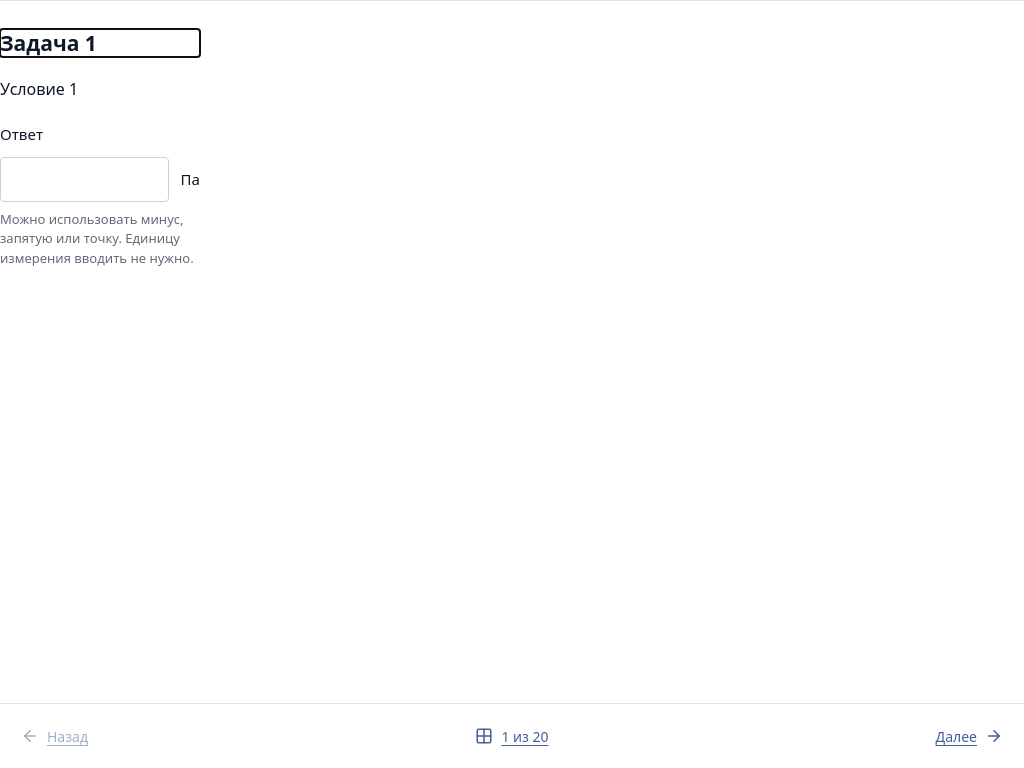
Test case: uses one compact task map on mobile, restores focus and keeps typed answers across navigation
Expected: the number of buttons "Далее" is 1, [927, 712, 1012, 760]
Type "-12" into the field at (84, 180), box [0, 157, 169, 202]
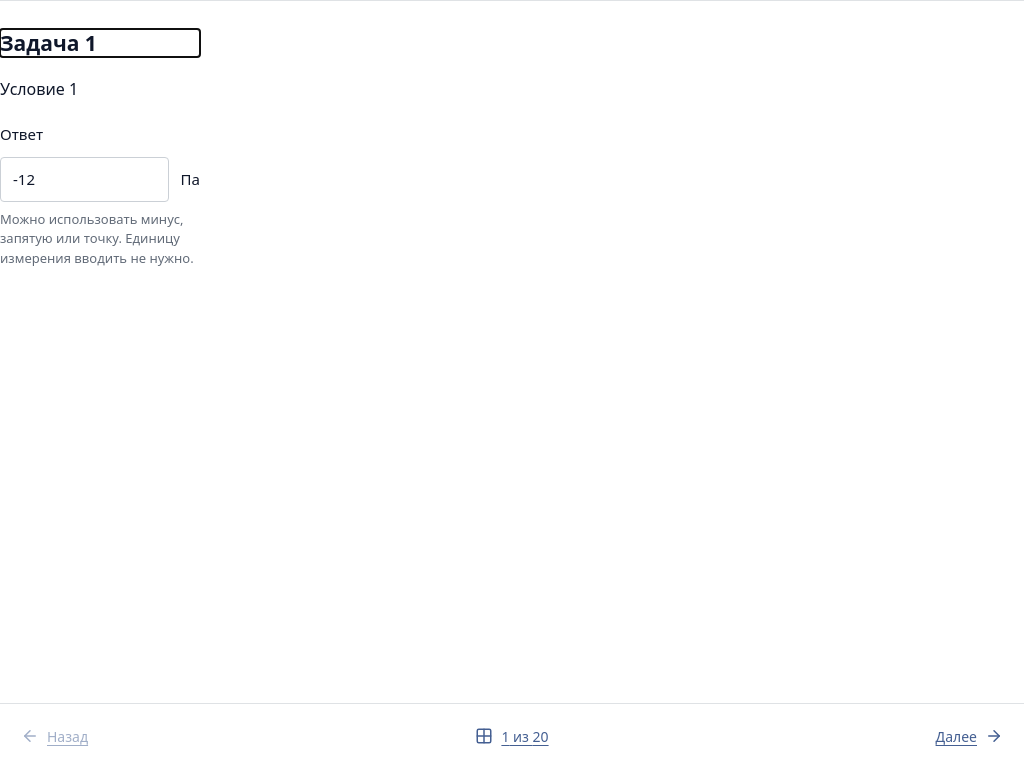
Click the button with aria-label "Задания · 1 из 20" at (512, 736), box [466, 712, 558, 760]
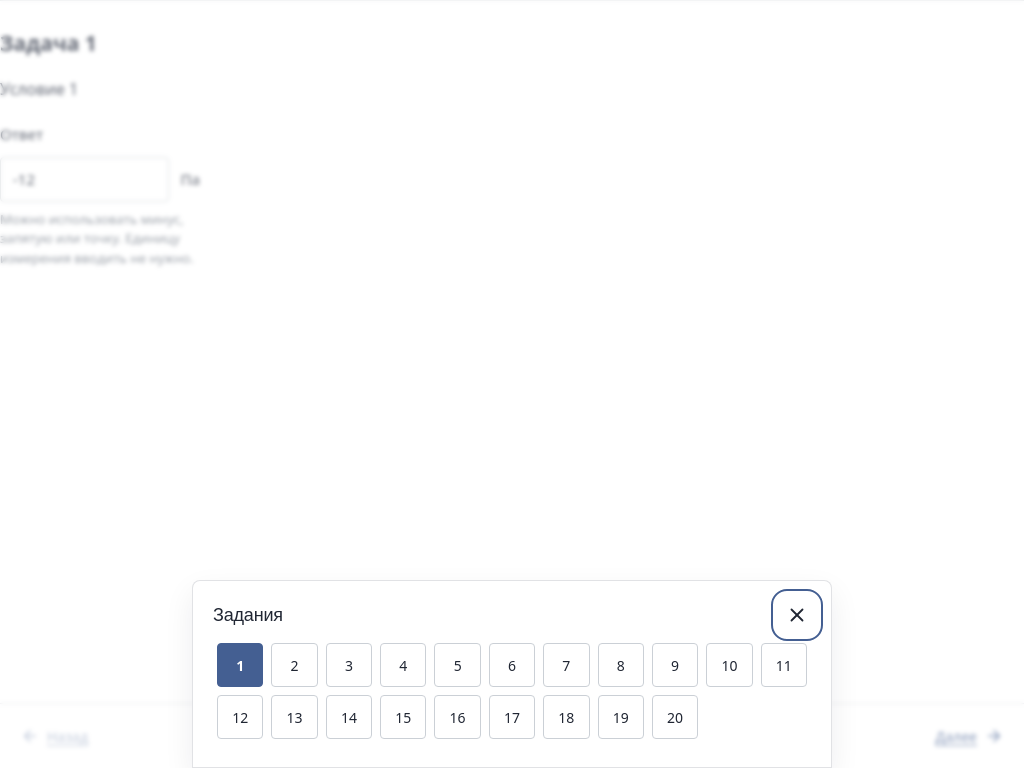
Result: the number of buttons "1" is 20
Click the button named "Задание 20: без ответа" at (675, 717), box [652, 695, 698, 739]
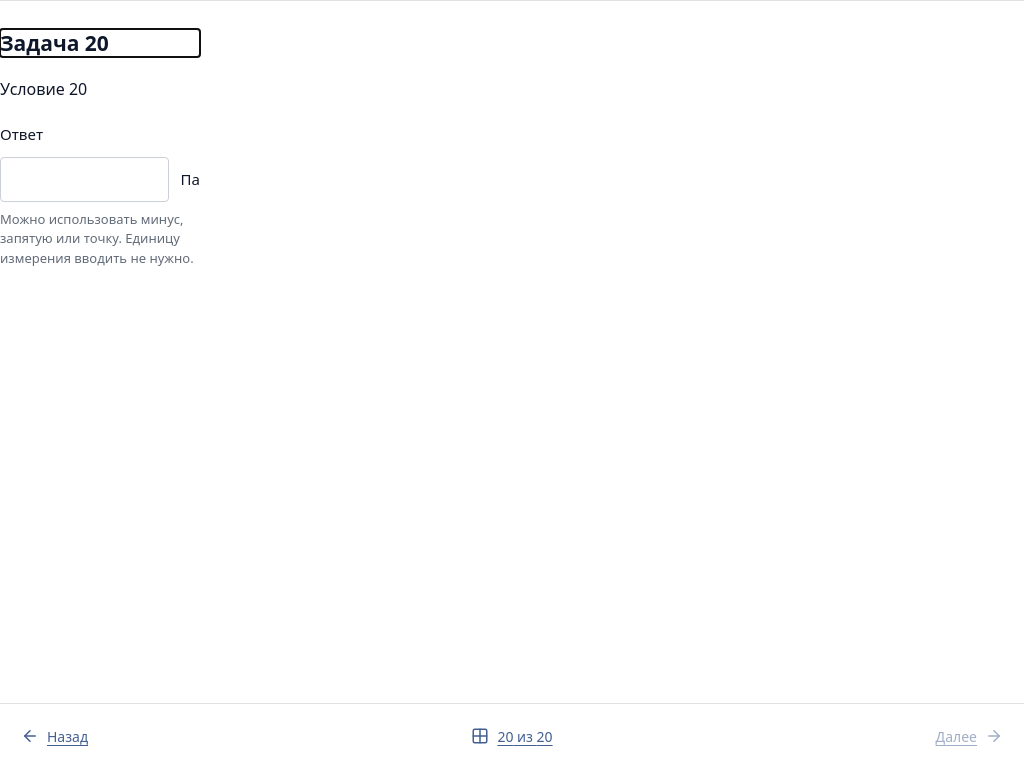
Result: the dialog is gone
Result: the button "Далее" is disabled at [927, 712, 1012, 760]
Click the button with aria-label "Задания · 20 из 20" at (512, 736), box [462, 712, 562, 760]
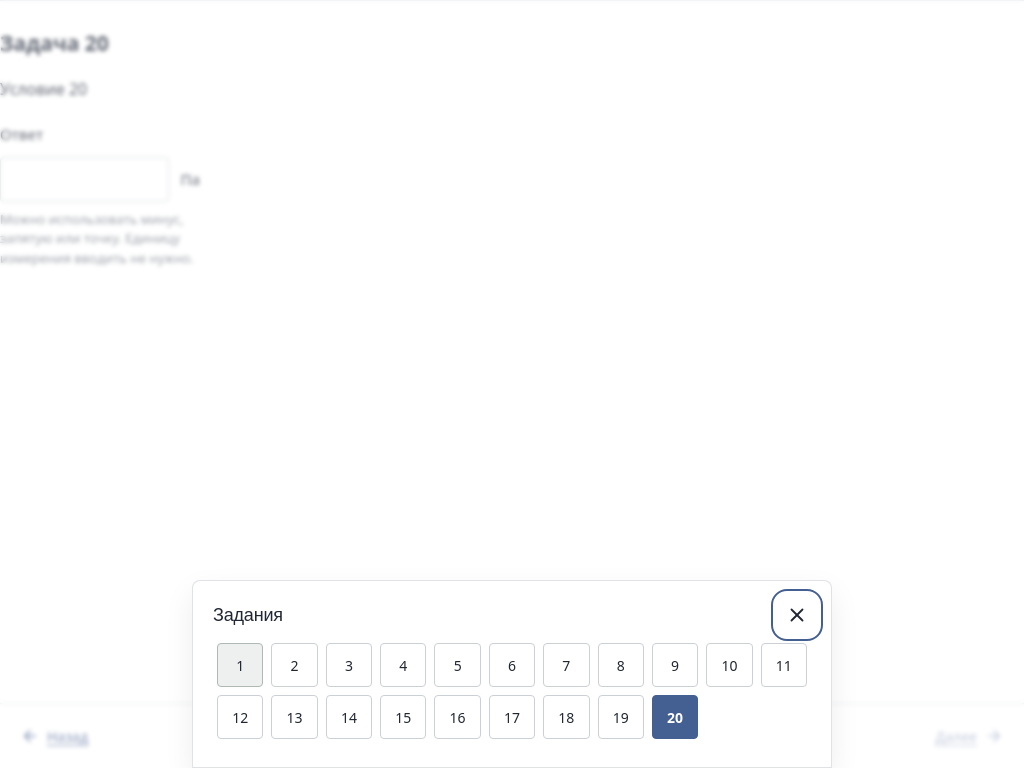
Click the button named "Задание 1: есть ответ" at (240, 665), box [217, 643, 263, 687]
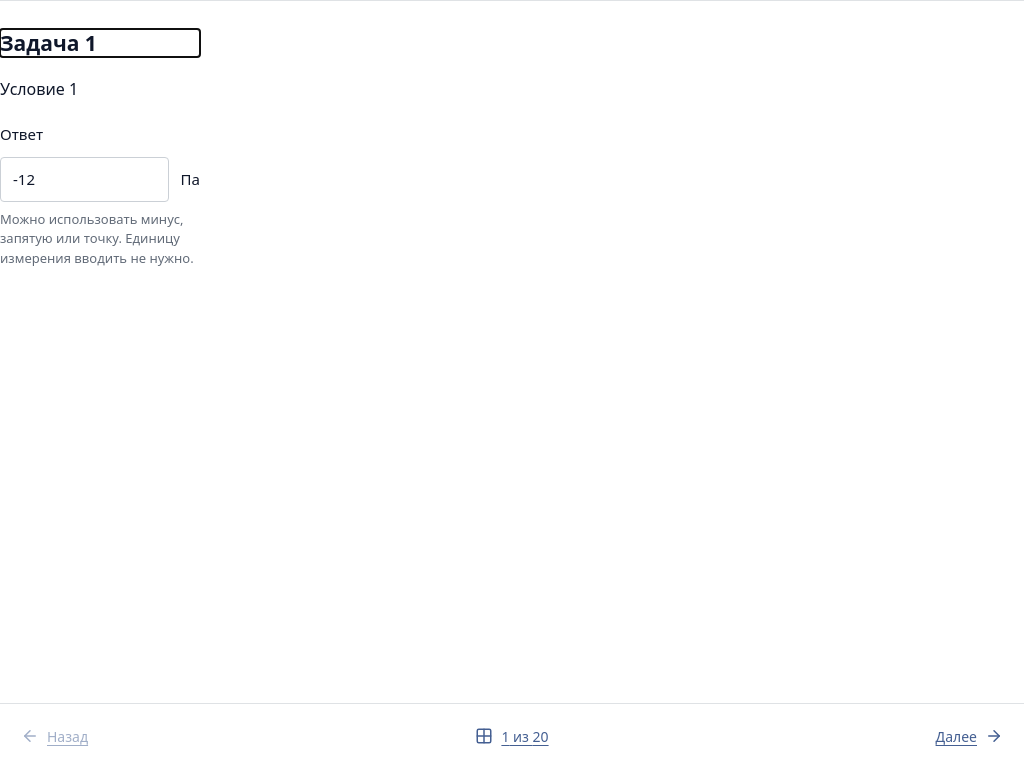
Result: the button "Назад" is disabled at [12, 712, 97, 760]
